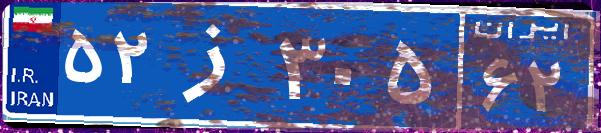0: (330, 28, 385, 110)
2: (110, 28, 158, 105), (525, 38, 570, 115)
3: (273, 28, 330, 110)
5: (385, 28, 445, 110), (57, 26, 110, 107)
6: (475, 38, 525, 113)
ز: (158, 15, 273, 115)
